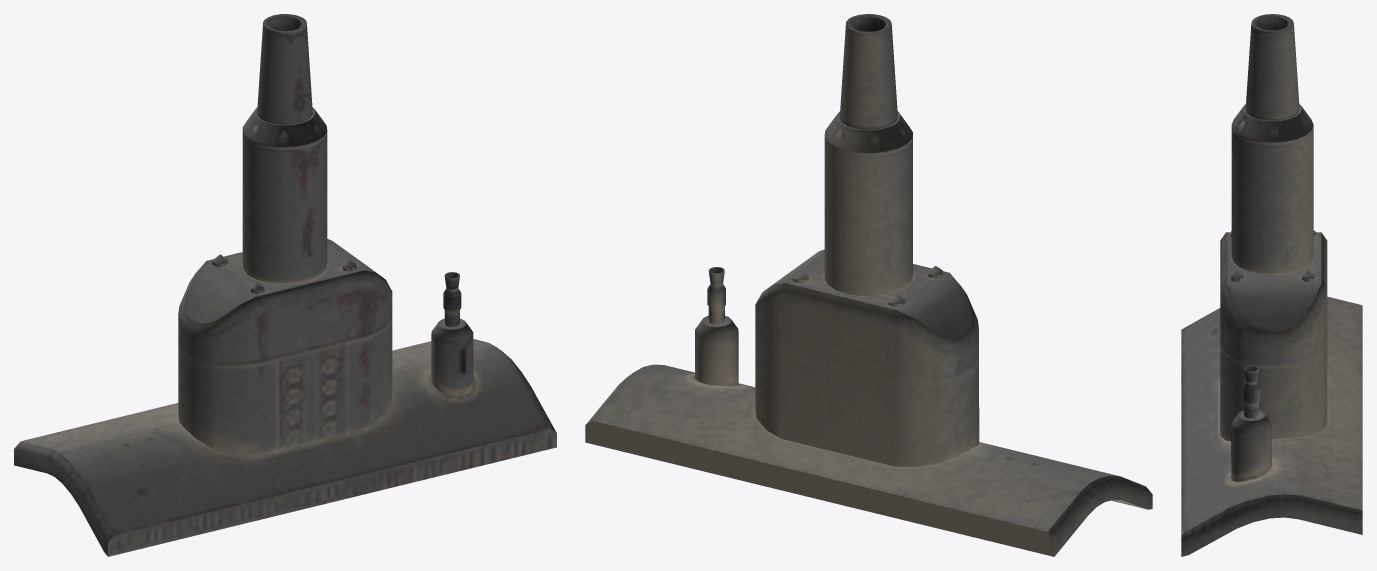
File: Gun_04.glb
The picture shows the model from 3 angles, left to right: view 1: azimuth 30°, elevation 25°; view 2: azimuth 150°, elevation 25°; view 3: azimuth 270°, elevation 25°; orthographic projection. The views are drawn at different scales.
Parts seen in each view (by area): view 1: set_0_group_0; view 2: set_0_group_0; view 3: set_0_group_0.
Part boxes in pixels (bbox=[...]): set_0_group_0: bbox=[14, 14, 556, 556]; set_0_group_0: bbox=[585, 14, 1152, 556]; set_0_group_0: bbox=[1181, 14, 1362, 556].
Size of the model in its own units: 1.16 by 1.1 by 0.4218.
1 material, 1 textured.
